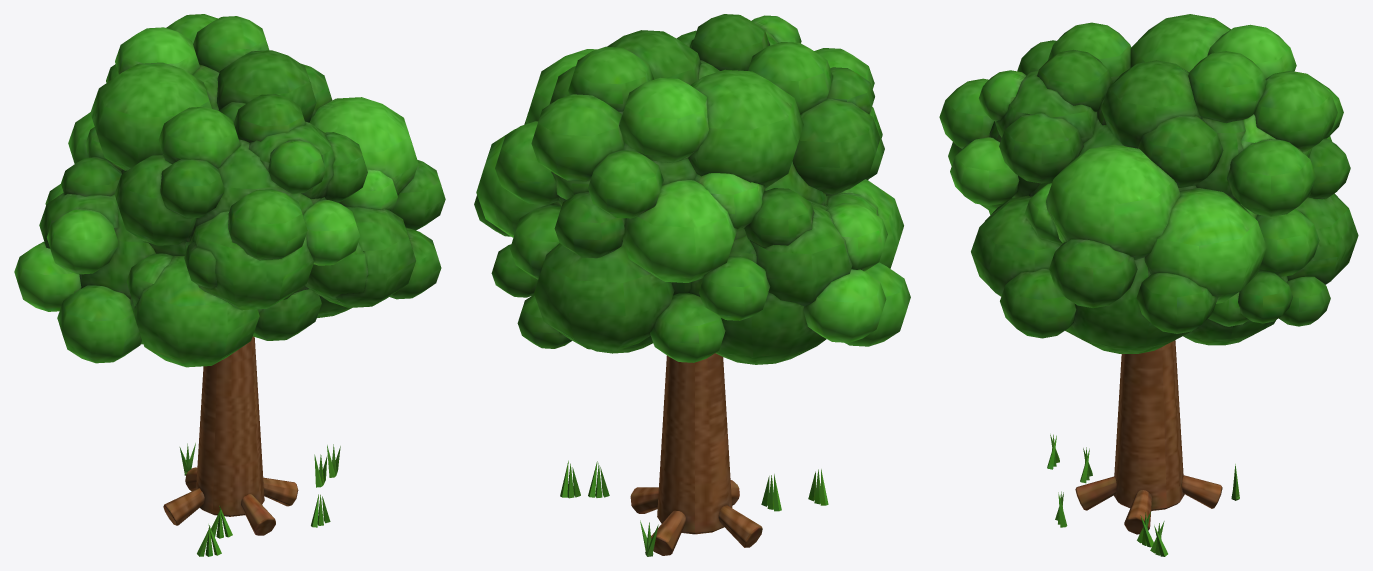
File: oak.glb
3 renders of one model, left to right at view 1: azimuth 30°, elevation 25°; view 2: azimuth 150°, elevation 25°; view 3: azimuth 270°, elevation 25°, orthographic. The views are drawn at different scales.
Parts seen in each view (by area): view 1: crown, oak; view 2: crown, oak; view 3: crown, oak.
Part boxes in pixels (x1,y1,x2,y2): crown: (14, 14, 445, 367); oak: (163, 336, 340, 556); crown: (474, 14, 910, 364); oak: (560, 353, 828, 556); crown: (939, 14, 1358, 353); oak: (1047, 340, 1239, 556).
Bounding box in the file's own units: 1.12 × 1.3 × 1.05.
1 material, 1 textured.
